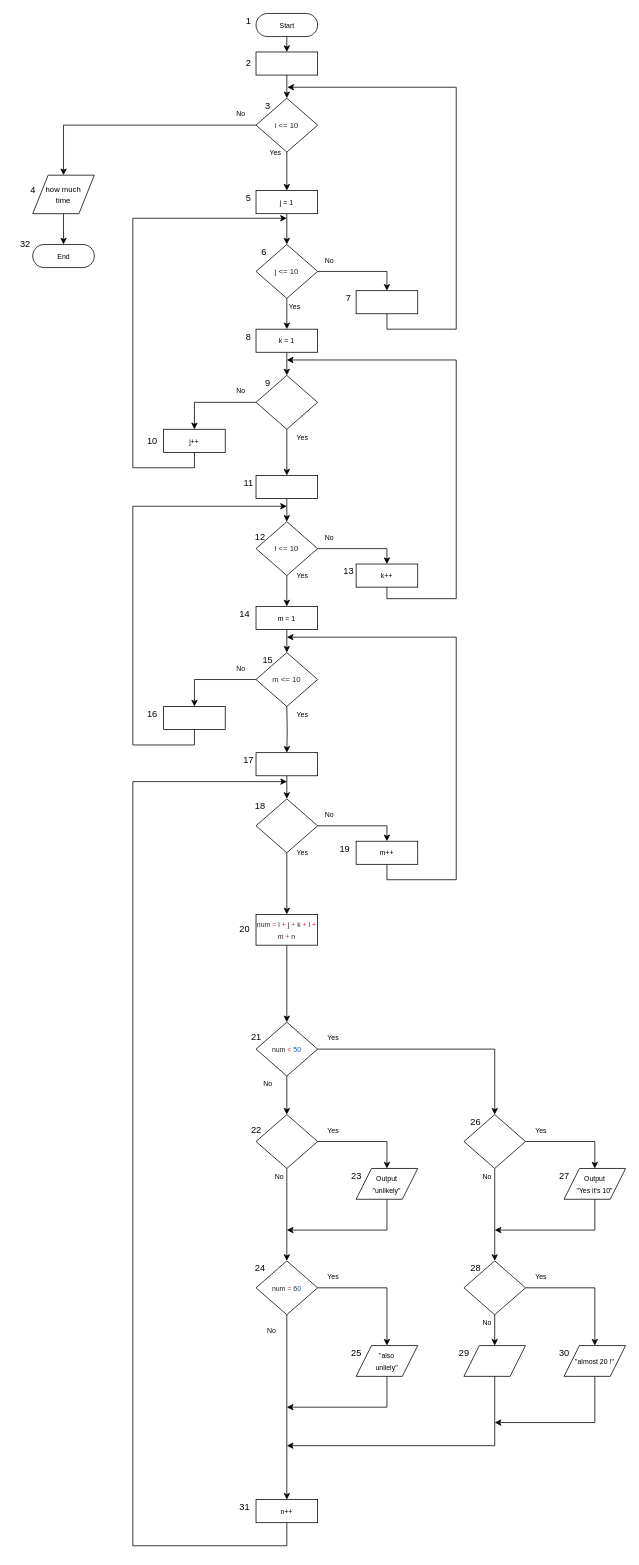
This 639x1565 diagram has some shape labels left out. The shapes that lost their labels are listed below. From the top down, each one's box as (x1, y1, x2, y2) in pixels, then its label:
(255, 51, 318, 75): i = 1
(355, 290, 418, 314): i++
(255, 375, 318, 429): k <= 10
(255, 475, 318, 499): l = 1
(163, 706, 225, 730): l++
(255, 752, 318, 776): n = 1
(255, 798, 318, 853): n <= 10
(255, 1114, 318, 1168): num = 5 0
(463, 1114, 526, 1168): num = 10
(463, 1260, 526, 1315): num = 2 0
(463, 1345, 526, 1376): " most common! "
